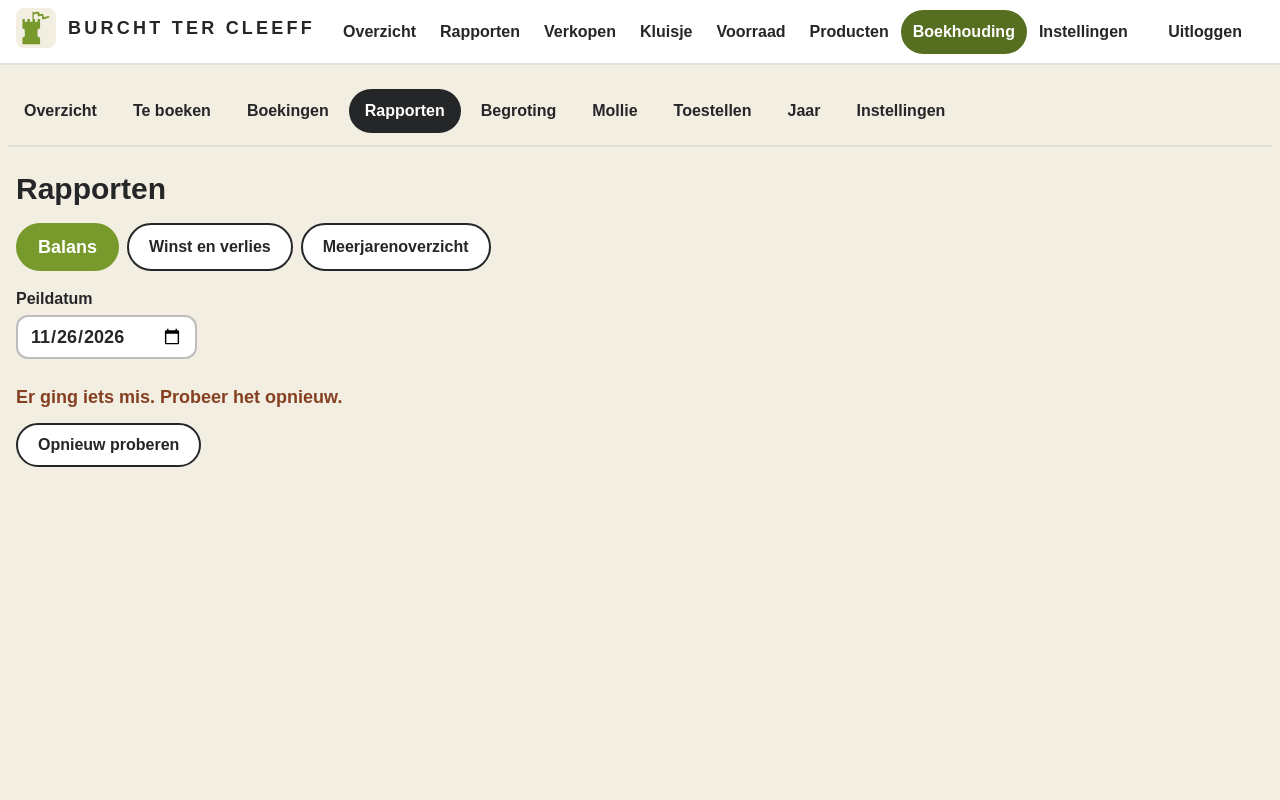
Test: shows the year before next to the result, with empty cells where there is none
Click the button "Winst en verlies": (210, 247) [127,223,293,271]
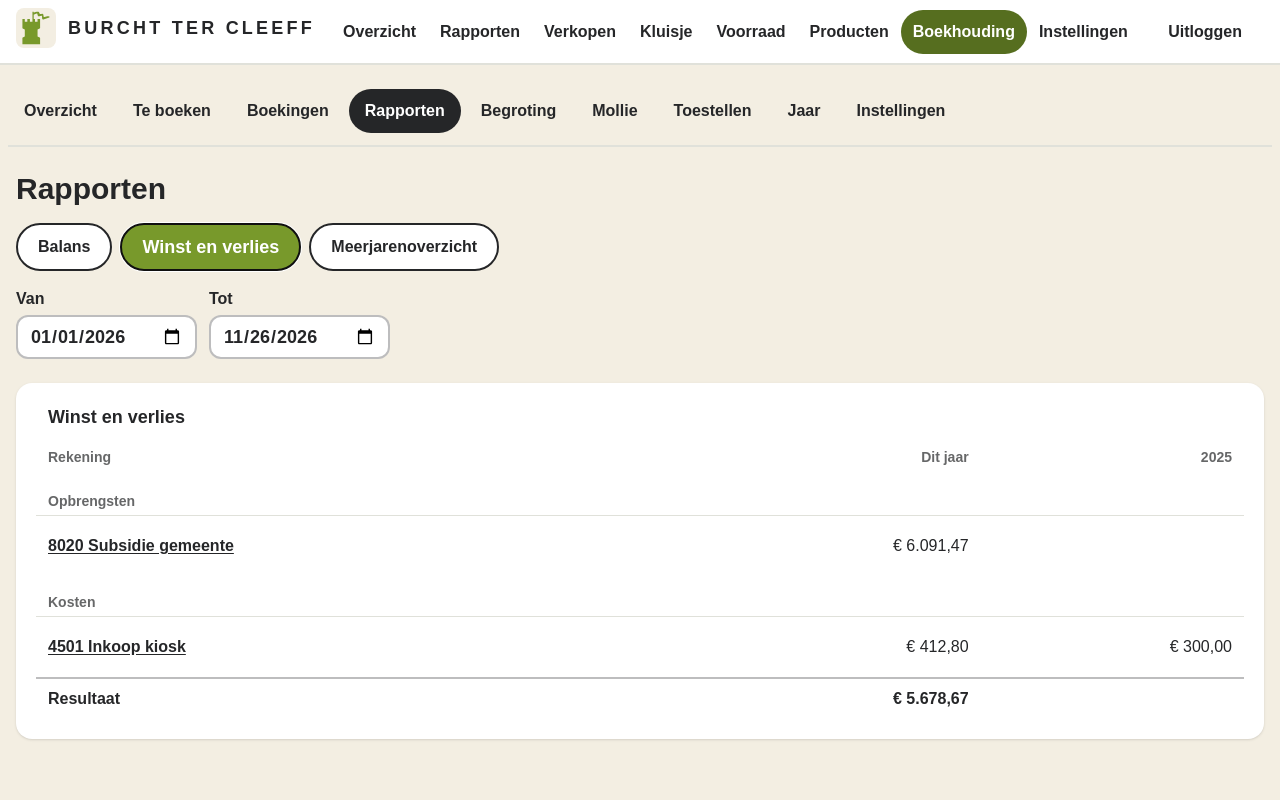
Expected: the row "8020 Subsidie gemeente € 6.091,47" does not show "€ 0,00", [36,516,1244,576]
Expected: the column heading "2025" is shown, [981,439,1244,475]
Expected: the row "4501 Inkoop kiosk € 412,80 € 300,00" is shown, [36,616,1244,678]
